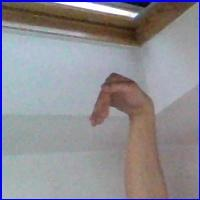del: (86, 69, 150, 133)
